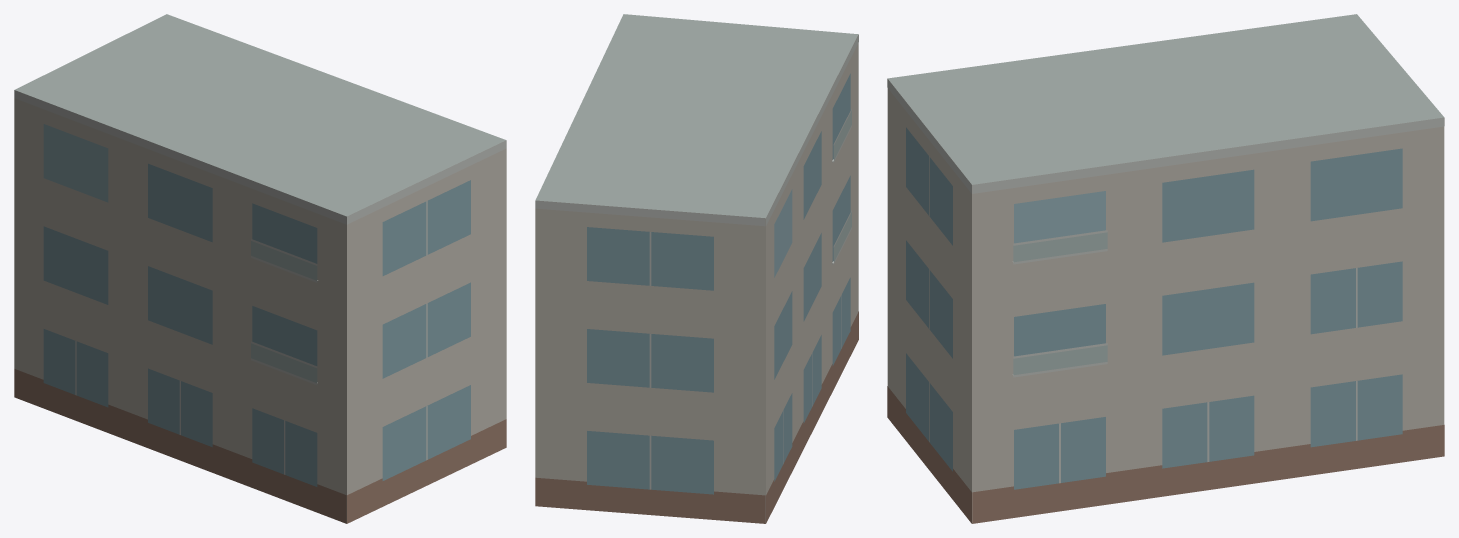
The model's file is survey-upis-32945233.glb.
The picture shows the model from 3 angles, left to right: view 1: azimuth 30°, elevation 25°; view 2: azimuth 150°, elevation 25°; view 3: azimuth 270°, elevation 25°; orthographic projection. The views are drawn at different scales.
Visible parts, largest first — view 1: survey-upis-32945233.tmp; view 2: survey-upis-32945233.tmp; view 3: survey-upis-32945233.tmp.
Boxes of the visible parts, left/top/right/bottom form: survey-upis-32945233.tmp: left=14, top=14, right=506, bottom=523; survey-upis-32945233.tmp: left=535, top=14, right=858, bottom=523; survey-upis-32945233.tmp: left=887, top=14, right=1444, bottom=523.
Bounding box in the file's own units: 9.91 × 9.15 × 13.64.
